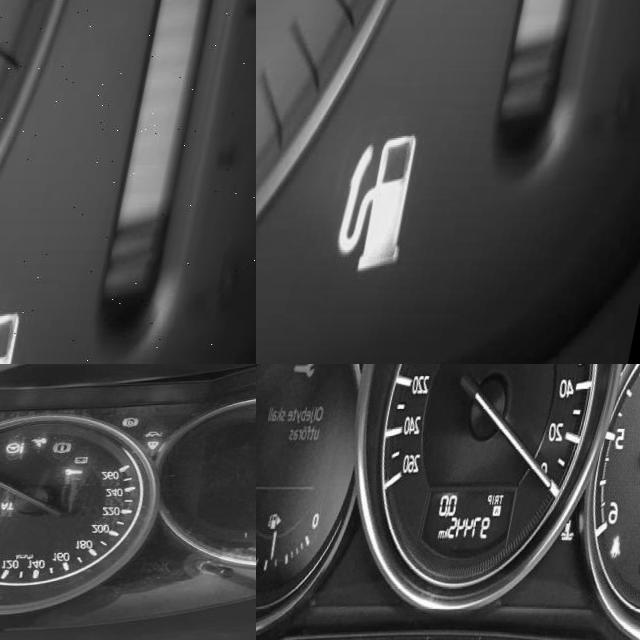Electronic Power Steering: (20, 442, 39, 454)
Seat Belt: (628, 532, 640, 560)
